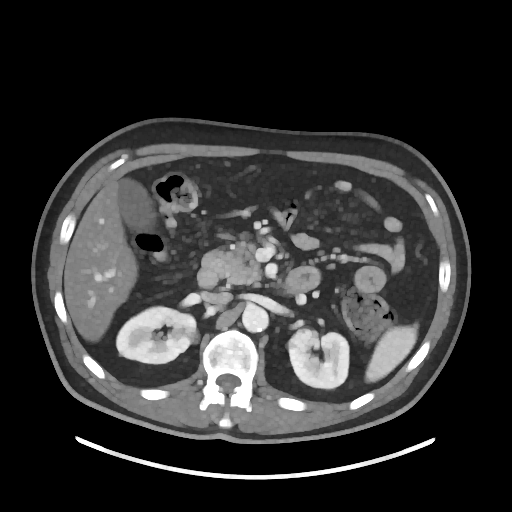Lesion: (180, 324, 201, 346)
